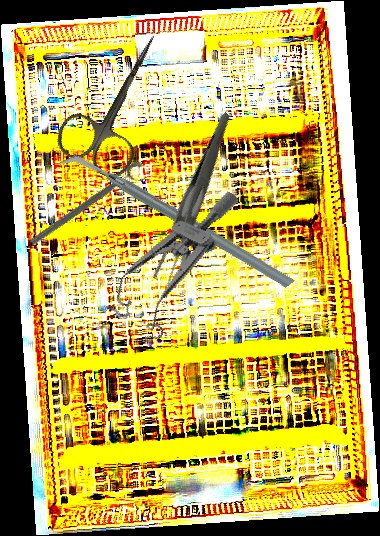Chopper: (57, 90, 297, 354)
Dressing Forceps: (113, 111, 278, 289)
Fixation Ring: (26, 158, 152, 256)
Iris Scissors: (49, 16, 191, 185)
Speculum: (97, 165, 241, 355)
